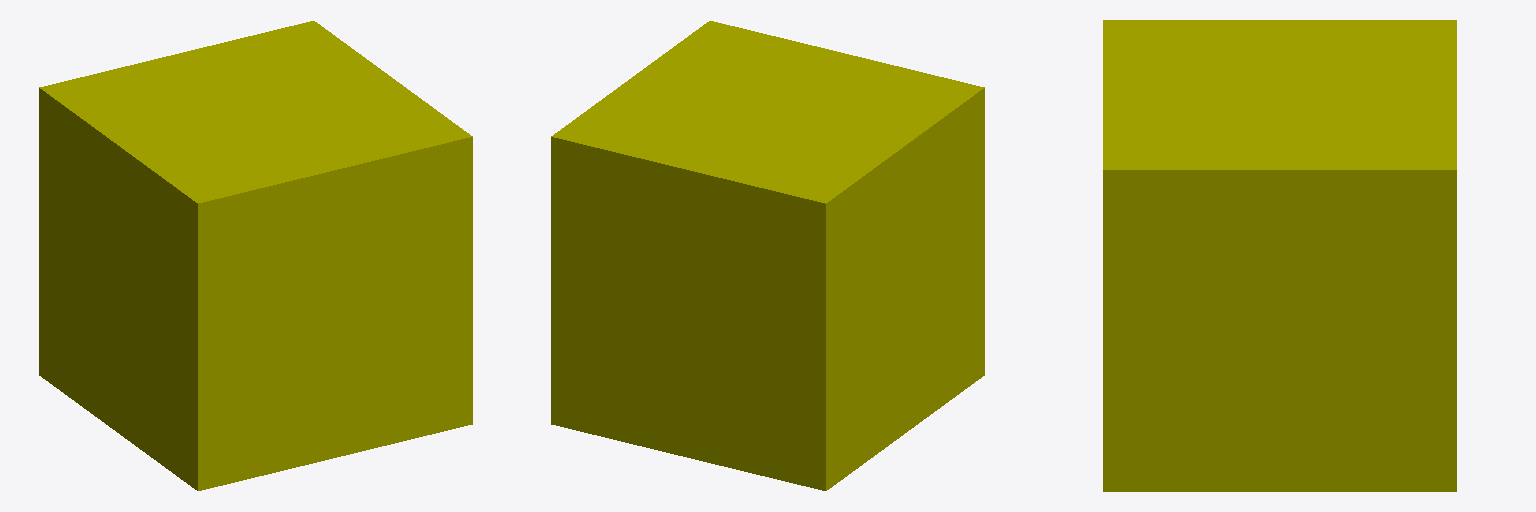
URDF robot description (box):
<?xml version="1.0" ?>
<!-- =================================================================================== -->
<!-- |    This document was autogenerated by xacro from panda_arm_hand.urdf.xacro      | -->
<!-- |    EDITING THIS FILE BY HAND IS NOT RECOMMENDED                                 | -->
<!-- =================================================================================== -->
<robot name="box" xmlns:xacro="http://www.ros.org/wiki/xacro">

  <material name="yellow">
    <color rgba="0.7 0.7 0 0.8" />
  </material>

  <link name="board">
    <visual>
      <geometry>
        <box size="0.01 0.01 0.01" />
        </geometry>
        <material name="yellow"/>
    </visual>
  </link>

  <!-- <joint name="panda_j" type="fixed">
    <origin rpy="0 0 0" xyz="0.1 0 0.0"/>
    <parent link="panda_hand"/>
    <child link="board"/>
    <axis xyz="0 0 0"/>
  </joint>
   -->
  
</robot>

--- Facts derived from the render (not from the file) ---
3 views of the same robot in one strip: view 1: azimuth 30°, elevation 25°; view 2: azimuth 150°, elevation 25°; view 3: azimuth 270°, elevation 25° (orthographic).
Robot: box — 1 links, 0 joints (none); root link board; default pose: every joint at zero.
Links seen in each view (by area): view 1: board; view 2: board; view 3: board.
Boxes of the visible links, x1,y1,x2,y2 form: board: (39, 21, 472, 490); board: (551, 21, 984, 490); board: (1103, 20, 1456, 491).
Bounding box of the posed robot: 0.01 × 0.01 × 0.01 m (x, y, z).
Geometry: primitives only (box / cylinder / sphere), no mesh files.
